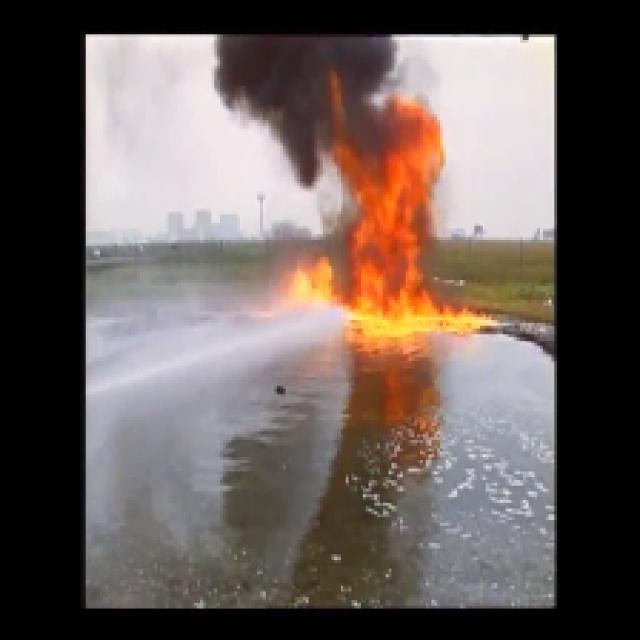Fire: (340, 167, 432, 330)
Smoke: (231, 39, 384, 132)
